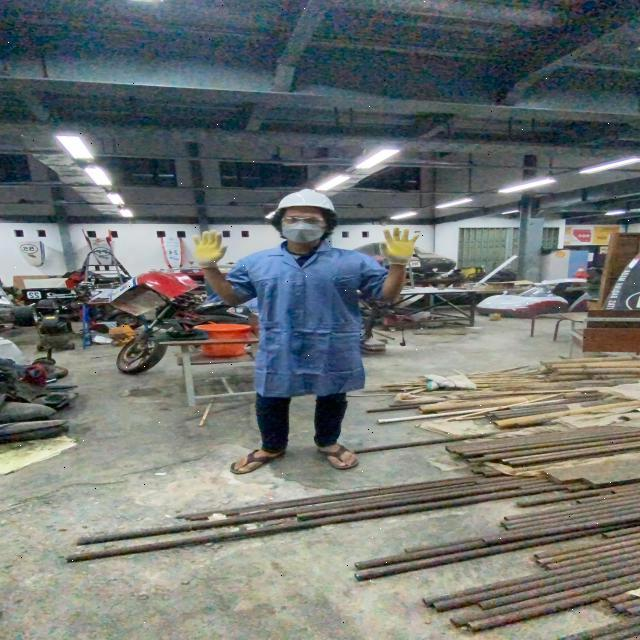Hard_hat: (268, 183, 340, 218)
Person: (186, 188, 422, 478)
